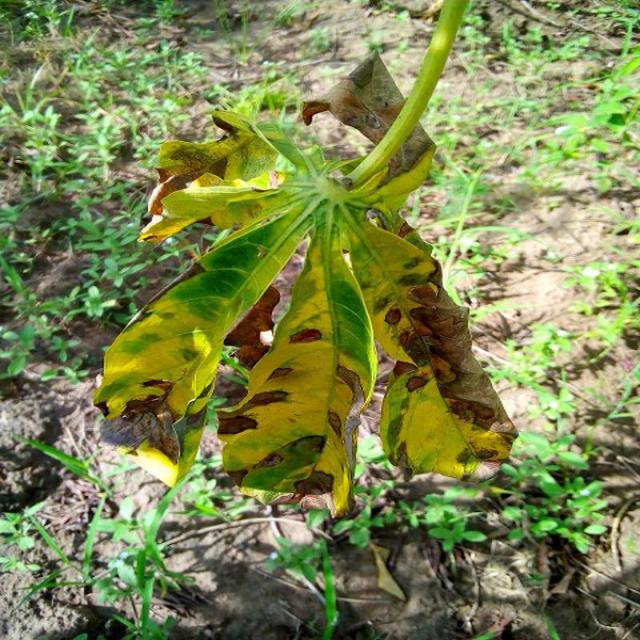cassava leaf: (93, 4, 519, 521)
